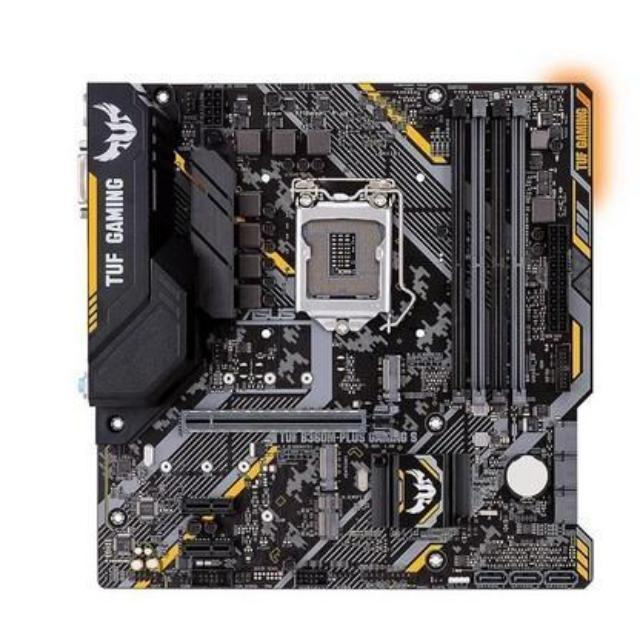Mainboard: (74, 71, 602, 604)
